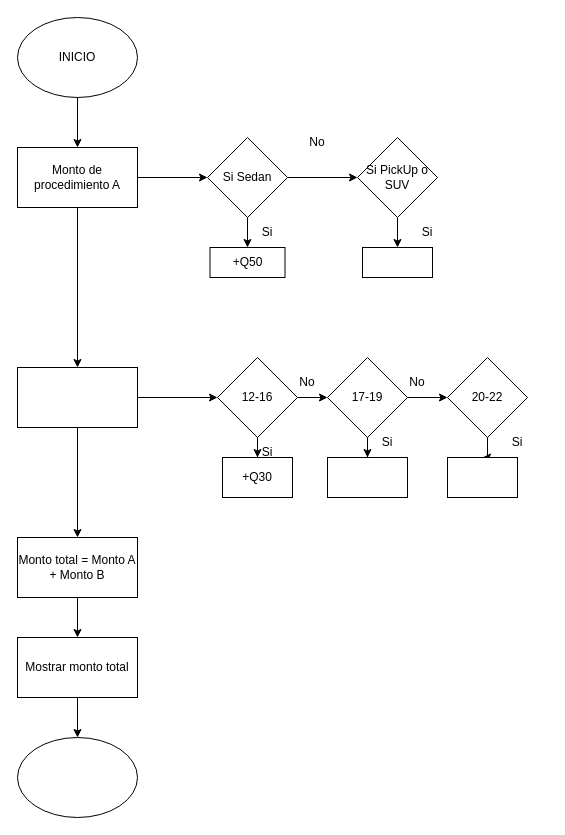
Image size: 565x835. Some labels were removed from this diagram. Each missing label, with the centre of its shape:
+Q40: (x=367, y=477)
+Q60: (x=482, y=477)
+Q75: (x=397, y=262)
FIN: (x=77, y=777)
Monto de procedimiento B: (x=77, y=397)
